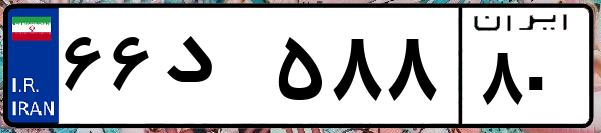0: (525, 38, 570, 115)
5: (270, 28, 330, 110)
6: (57, 26, 110, 100), (110, 28, 158, 98)
8: (385, 28, 445, 110), (330, 28, 385, 110), (475, 38, 525, 113)
د: (158, 20, 270, 120)
